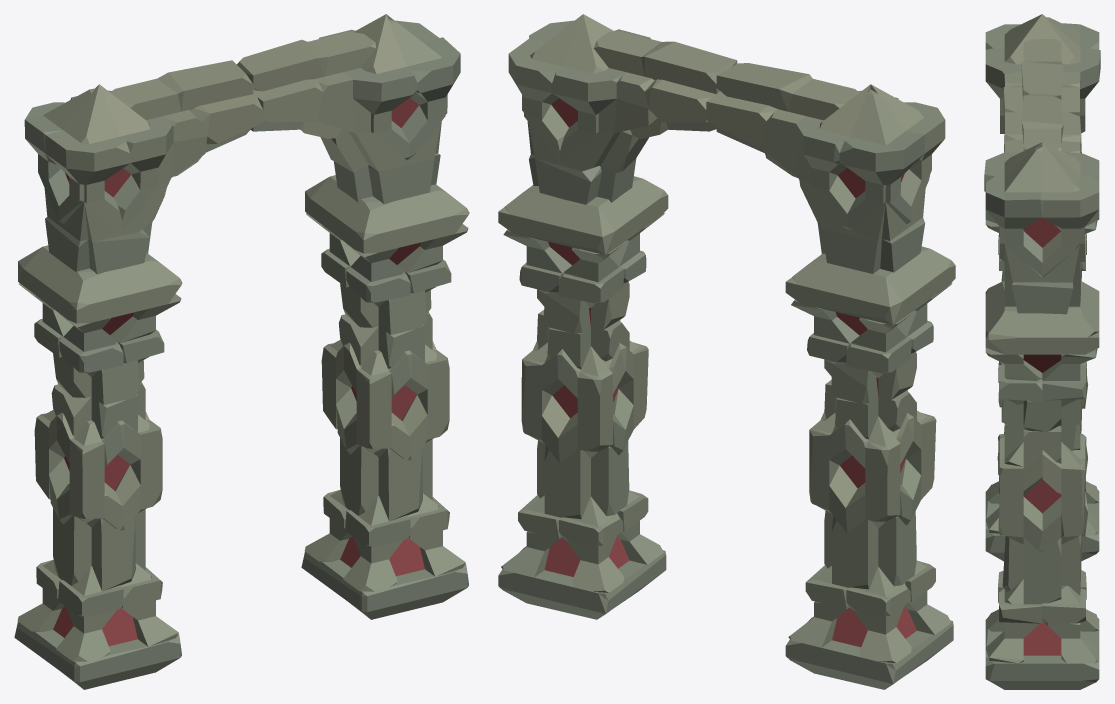
File: arch_large.fbx
3 views of the same model, side by side, from view 1: azimuth 30°, elevation 25°; view 2: azimuth 150°, elevation 25°; view 3: azimuth 270°, elevation 25° (orthographic). The views are drawn at different scales.
Visible parts, largest first — view 1: arch_large; view 2: arch_large; view 3: arch_large.
Boxes of the visible parts, box(x1,y1,x2,y2) form: arch_large: box(14, 14, 469, 689); arch_large: box(498, 14, 955, 689); arch_large: box(984, 14, 1100, 689).
Bounding box in the file's own units: 554 × 775 × 154.
